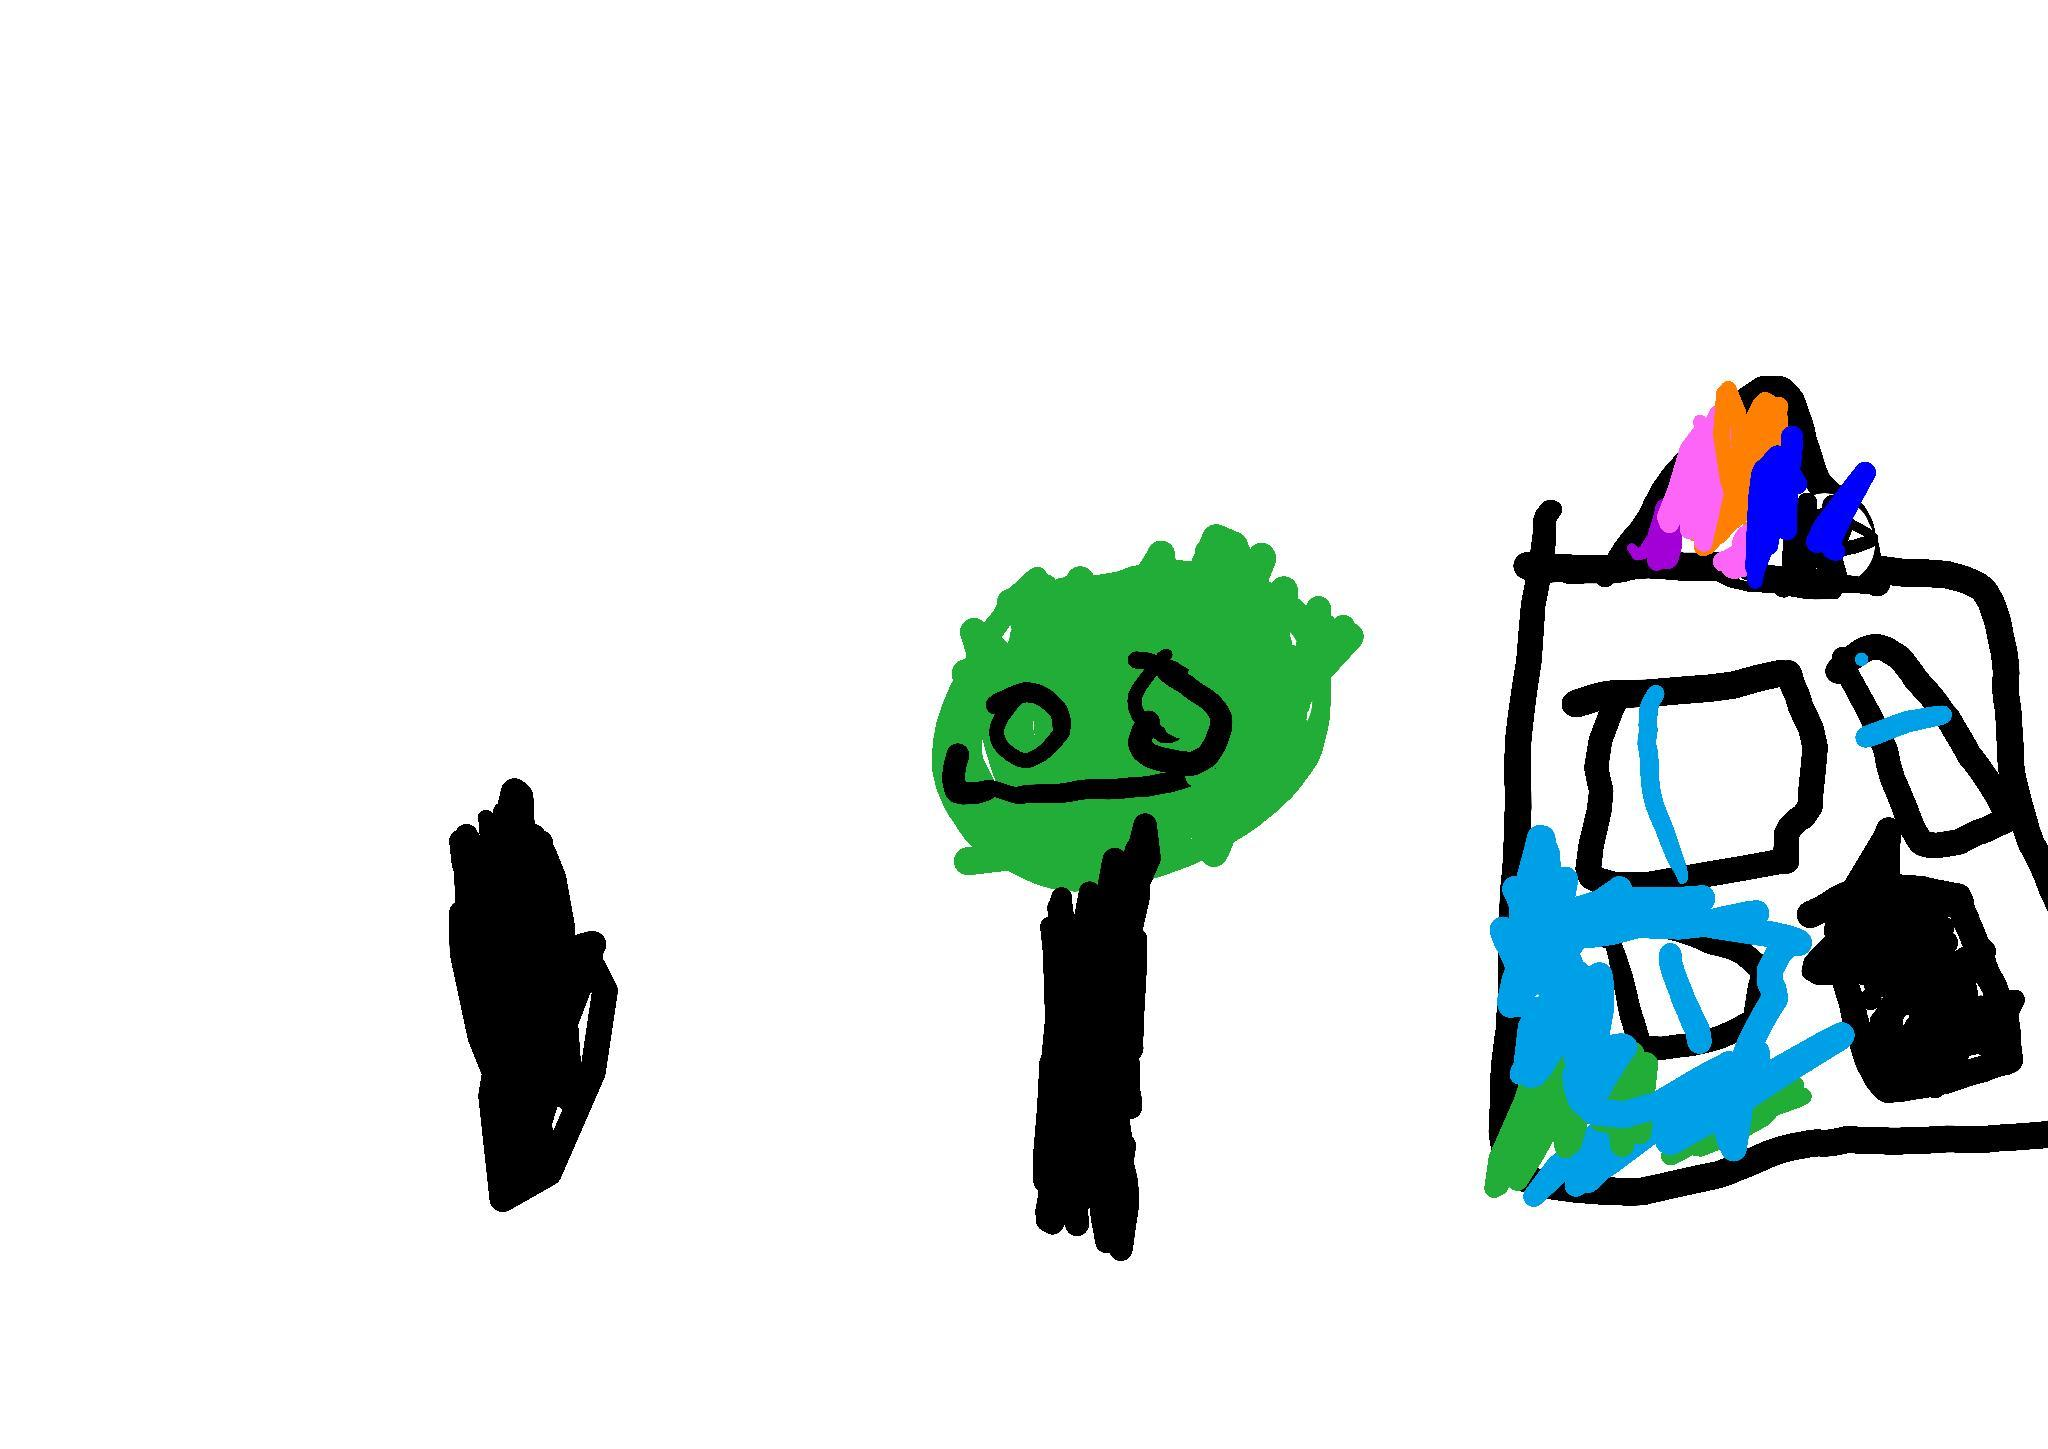door: (1802, 856, 2028, 1104)
house: (1487, 373, 2048, 1211)
roof: (1600, 375, 1905, 585)
wall: (1507, 569, 2048, 1195)
window: (1832, 634, 2017, 858), (1662, 692, 1803, 877), (1610, 938, 1766, 1062), (1610, 695, 1669, 872)
